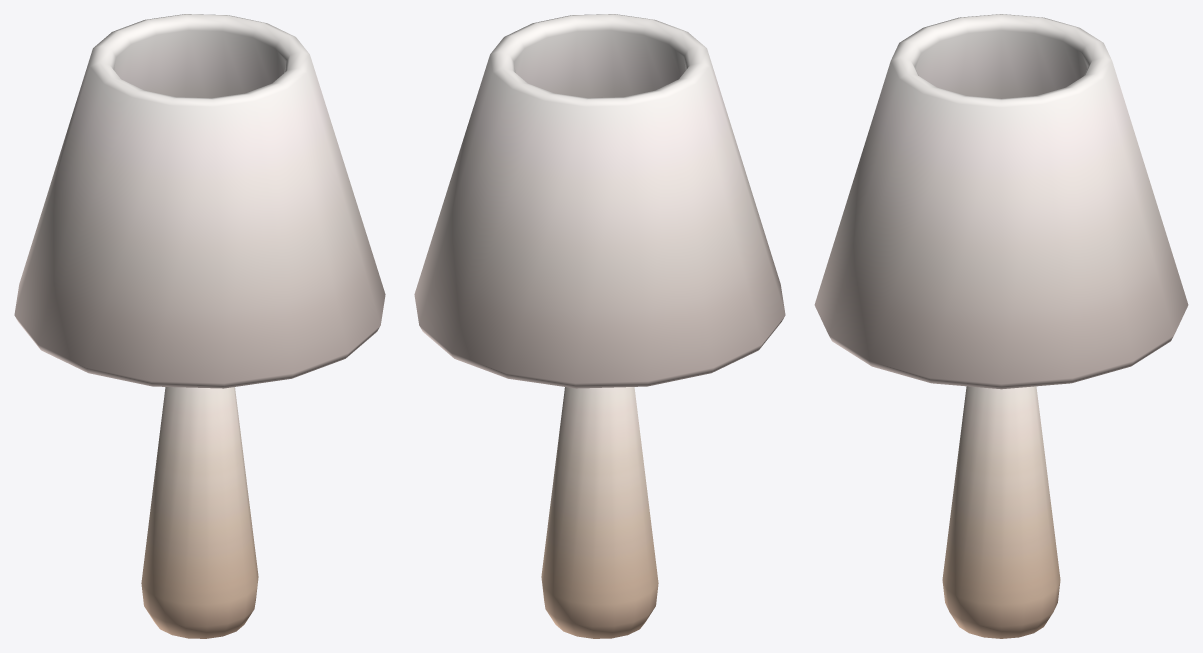
File: SM_lamp_5.fbx
The picture shows the model from 3 angles, left to right: view 1: azimuth 30°, elevation 25°; view 2: azimuth 150°, elevation 25°; view 3: azimuth 270°, elevation 25°; orthographic projection.
Parts seen in each view (by area): view 1: SM_lamp_5; view 2: SM_lamp_5; view 3: SM_lamp_5.
Part boxes in pixels (left/top/right/bottom): SM_lamp_5: left=14, top=14, right=385, bottom=638; SM_lamp_5: left=414, top=14, right=785, bottom=638; SM_lamp_5: left=814, top=14, right=1188, bottom=638.
Size of the model in its own units: 56.3 by 94.37 by 56.3.
Materials: 1 (1 with a texture image).
